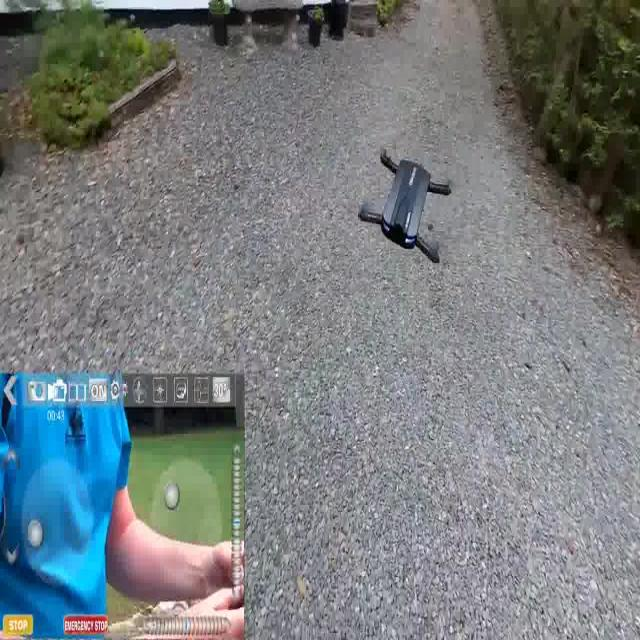drone: (356, 145, 455, 275)
